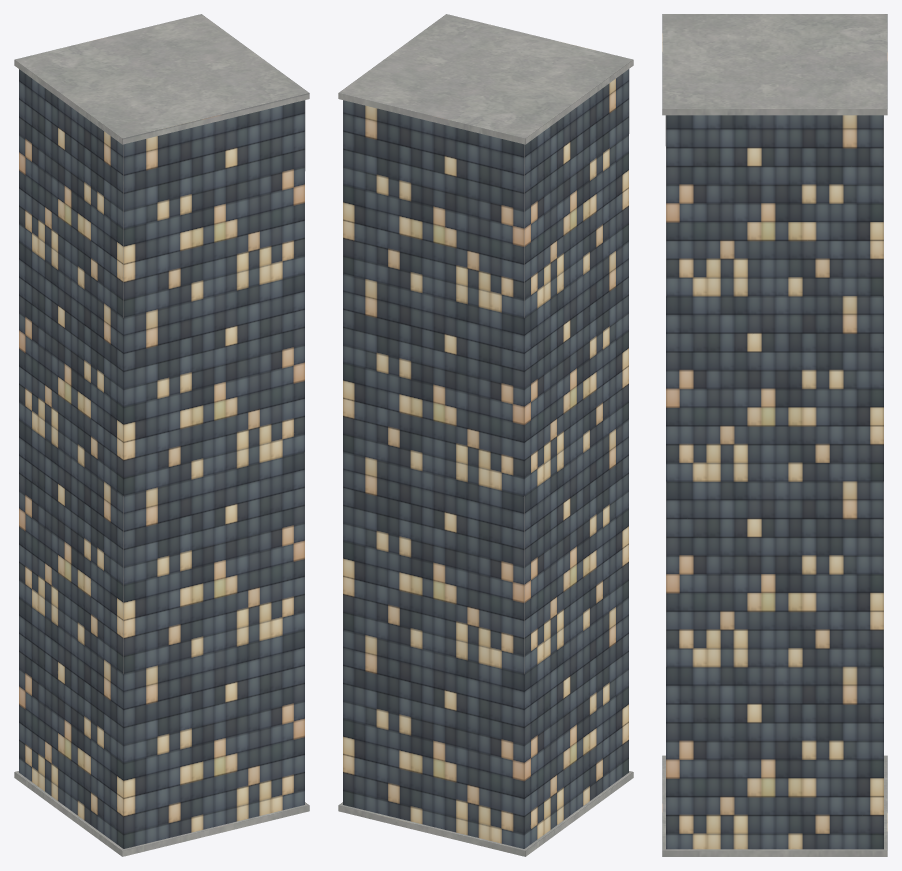
The model's file is building_05.1.glb.
The picture shows the model from 3 angles, left to right: view 1: azimuth 30°, elevation 25°; view 2: azimuth 150°, elevation 25°; view 3: azimuth 270°, elevation 25°; orthographic projection. The views are drawn at different scales.
Parts seen in each view (by area): view 1: building_05.1; view 2: building_05.1; view 3: building_05.1.
Boxes of the visible parts, left/top/right/bottom form: building_05.1: left=14, top=14, right=309, bottom=856; building_05.1: left=338, top=14, right=633, bottom=856; building_05.1: left=662, top=14, right=887, bottom=856.
Size of the model in its own units: 33 by 121 by 33.
Materials: 1 (1 with a texture image).
